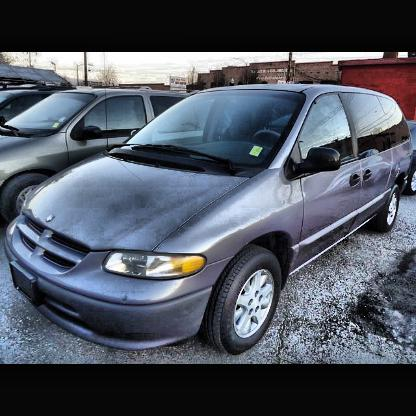Dodge Caravan Minivan 1997: (6, 77, 416, 361)
